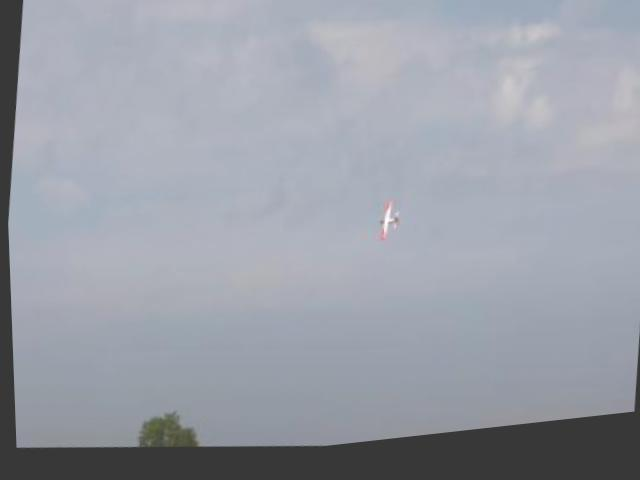uav: (371, 201, 401, 253)
